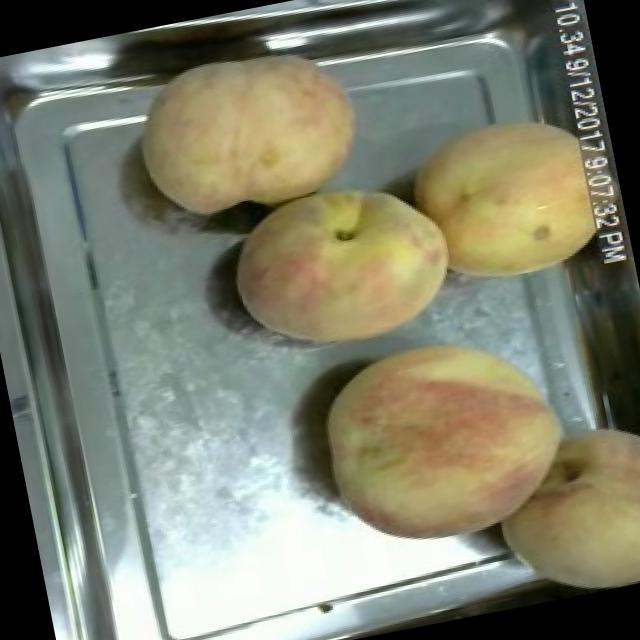Fruit: (299, 308, 592, 570), (119, 22, 381, 236), (213, 167, 471, 376), (392, 94, 628, 304), (473, 404, 640, 610)
